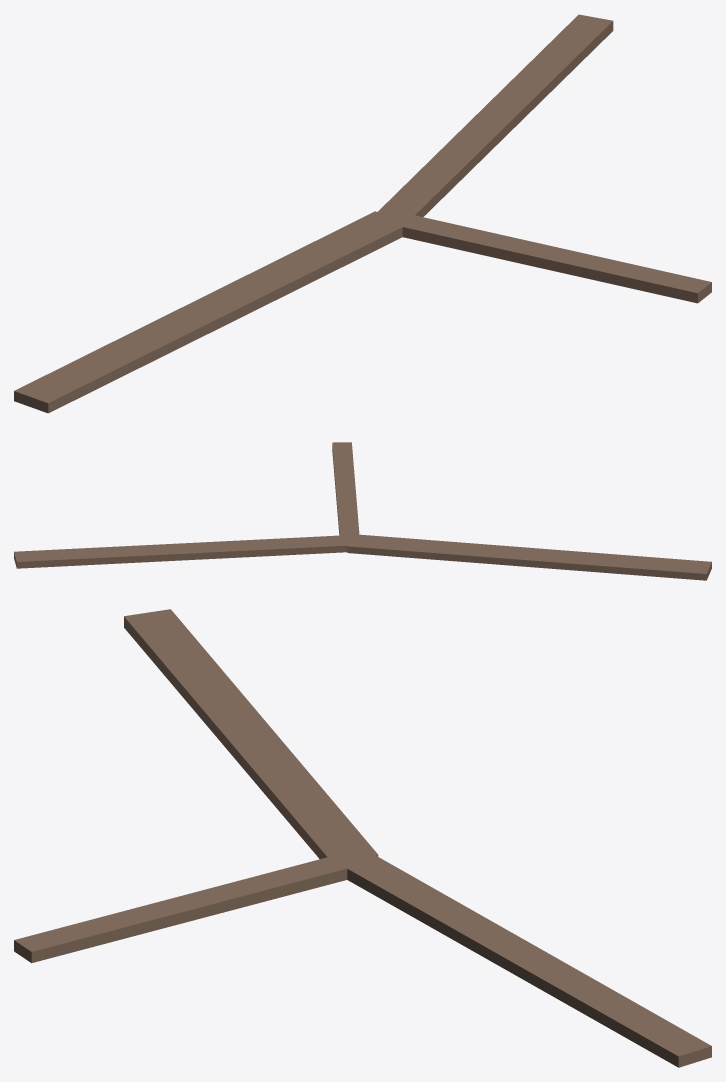
The model's file is path_small_crack_prop_01.glb.
3 renders of one model, top to bottom at view 1: azimuth 30°, elevation 25°; view 2: azimuth 150°, elevation 25°; view 3: azimuth 270°, elevation 25°, orthographic. The views are drawn at different scales.
Parts seen in each view (by area): view 1: path_small_crack_prop_01; view 2: path_small_crack_prop_01; view 3: path_small_crack_prop_01.
Boxes of the visible parts, box(x1,y1,x2,y2) form: path_small_crack_prop_01: box(14, 14, 711, 413); path_small_crack_prop_01: box(14, 442, 711, 580); path_small_crack_prop_01: box(14, 609, 711, 1067).
Bounding box in the file's own units: 0.1275 × 0.0015 × 0.0841.
